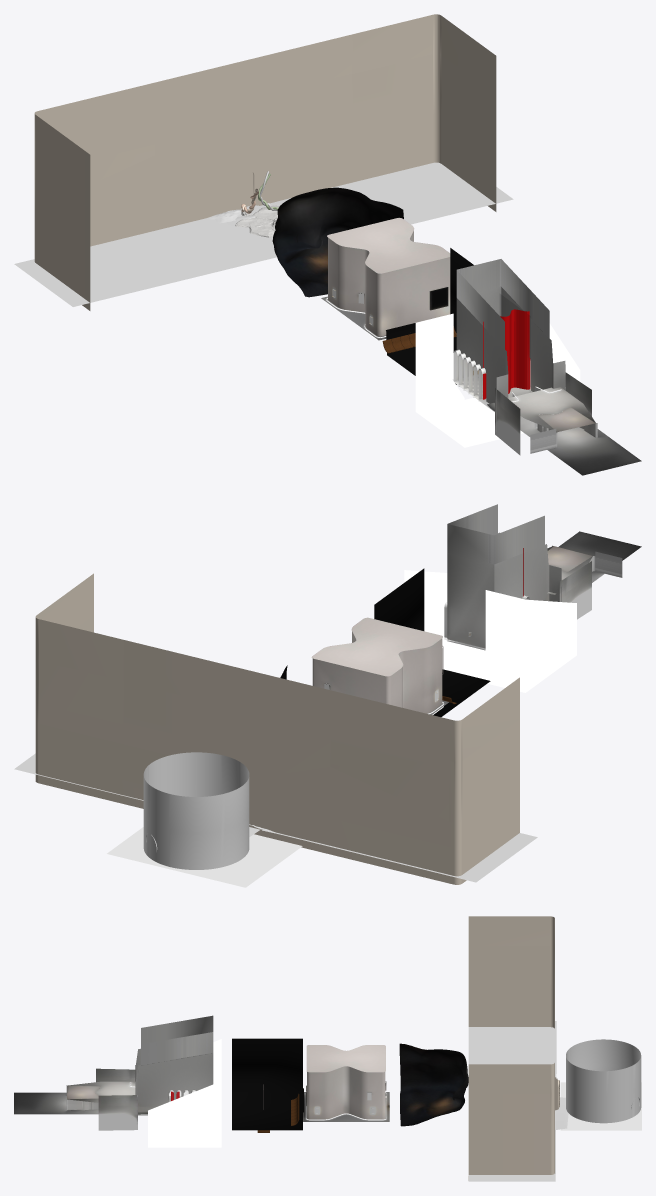
Rendered from scenesMobile.glb.
3 renders of one model, top to bottom at view 1: azimuth 30°, elevation 25°; view 2: azimuth 150°, elevation 25°; view 3: azimuth 270°, elevation 25°, orthographic. The views are drawn at different scales.
Visible parts, largest first — view 1: wall_04, FLOOR, ROOM03_COMBINED, Room_01_baked, ROOM_04, Plane, sol_baked, toit_baked, Interaction_Raycaster, Murs_baked, Parois_02, SOCLE_SOL (+1 smaller); view 2: wall_04, Circle.002, Room_01_baked, Plane, ROOM03_COMBINED, Sol_06, Parois_02, FLOOR, sol_baked, Murs_baked, toit_baked, ROOM_00_Baked; view 3: wall_04, Parois_02, Circle.002, Room_01_baked, ROOM03_COMBINED, ROOM_04, FLOOR, Plane, Murs_baked, sol_baked, toit_baked, Sol_06 (+1 smaller).
Boxes of the visible parts, x1,y1,x2,y2 form: wall_04: (34,14,496,310); FLOOR: (14,162,513,306); ROOM03_COMBINED: (327,217,450,336); Room_01_baked: (453,259,565,431); ROOM_04: (272,187,403,297); Plane: (415,313,580,447); sol_baked: (487,403,641,475); toit_baked: (508,387,595,431); Interaction_Raycaster: (483,309,530,399); Murs_baked: (495,372,591,455); Parois_02: (386,248,473,384); SOCLE_SOL: (235,205,279,237); wall_04: (35,573,519,884); Circle.002: (143,752,249,869); Room_01_baked: (444,504,561,650); Plane: (404,570,576,692); ROOM03_COMBINED: (311,617,442,713); Sol_06: (107,827,302,887); Parois_02: (374,568,490,716); FLOOR: (14,753,537,882); sol_baked: (558,531,641,582); Murs_baked: (559,561,591,619); toit_baked: (547,546,592,594); ROOM_00_Baked: (552,545,622,577); wall_04: (468,916,559,1180); Parois_02: (232,1038,303,1130); Circle.002: (566,1039,641,1123); Room_01_baked: (135,1015,213,1111); ROOM03_COMBINED: (306,1045,386,1119); ROOM_04: (399,1043,468,1126); FLOOR: (468,1021,568,1181); Plane: (148,1039,221,1147); Murs_baked: (96,1068,137,1130); sol_baked: (14,1092,147,1114); toit_baked: (67,1081,135,1102); Sol_06: (560,1082,641,1130).
Size of the model in its own units: 269 by 106 by 444.
49 materials, 23 textured.
